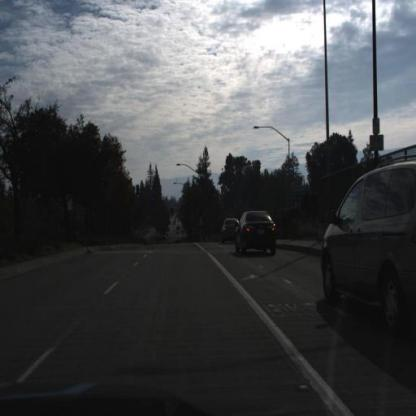car: (320, 159, 416, 334), (234, 209, 278, 259), (221, 215, 240, 244)
